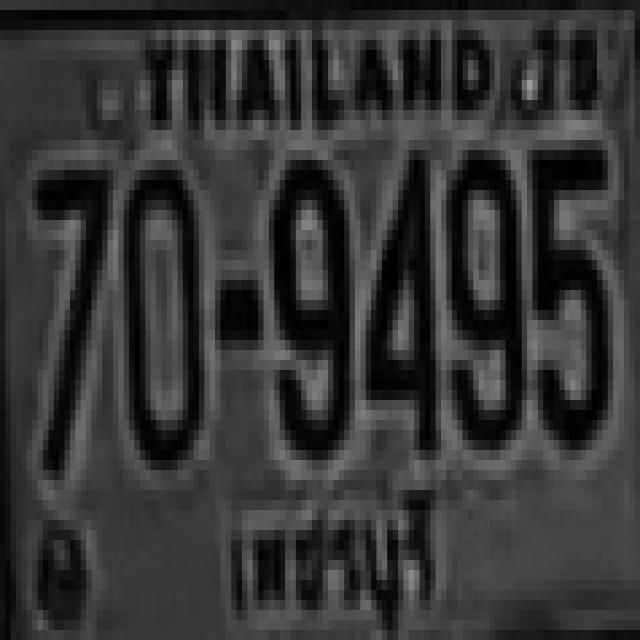0: (118, 160, 199, 460)
4: (360, 140, 436, 450)
5: (530, 140, 605, 440)
7: (32, 160, 108, 460)
9: (441, 140, 522, 440), (271, 150, 347, 450)
Phetchaburi: (219, 485, 450, 640)
